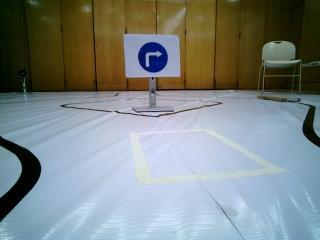right: (128, 40, 184, 77)
